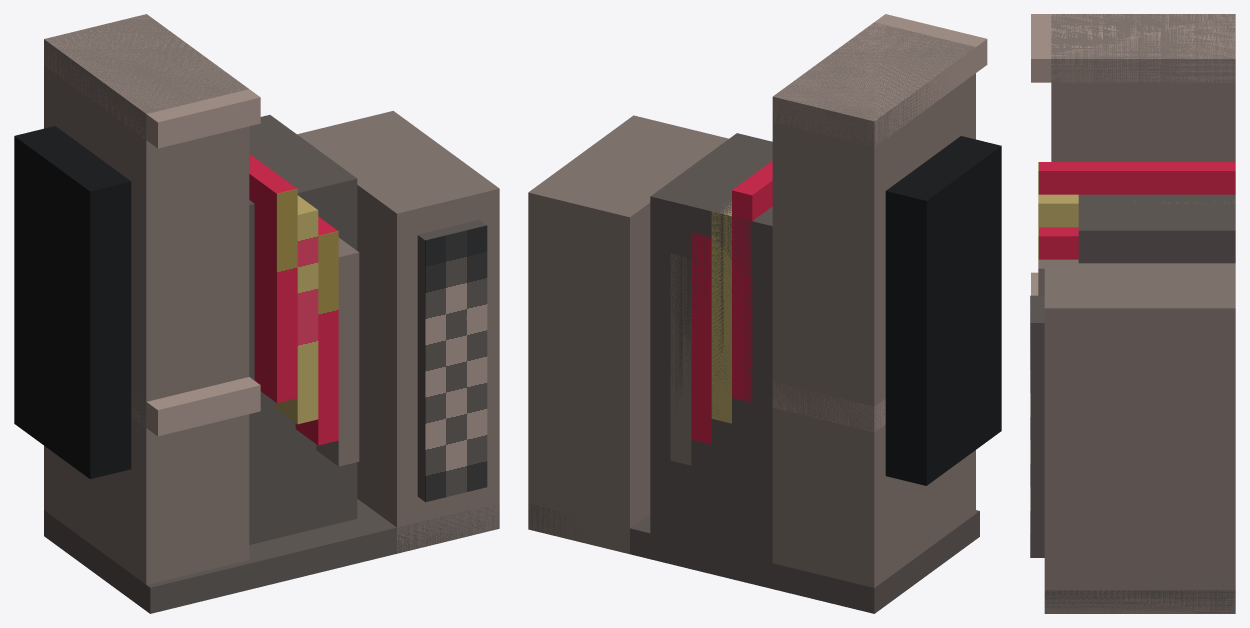
File: CMU3DDropshipNavigationCloudEast.glb
3 renders of one model, left to right at view 1: azimuth 30°, elevation 25°; view 2: azimuth 150°, elevation 25°; view 3: azimuth 270°, elevation 25°, orthographic. The views are drawn at different scales.
Visible parts, largest first — view 1: side stepped rear body, keyboard end body, rear side connector, side main screen backing, side keyboard keys source detail, lower connected console rail, raised side upper rim, narrow visible side display 0 source detail, narrow visible side display 1 source detail, narrow visible side display 3 source detail, sloped screen supporting rib 0, narrow visible side display 2 source detail (+3 smaller); view 2: side stepped rear body, keyboard end body, rear side connector, side main screen backing, raised side upper rim, lower connected console rail, sloped screen supporting rib 0, sloped screen supporting rib 1, sloped screen supporting rib 2, sloped screen supporting rib 3, raised side lower rim; view 3: keyboard end body, side stepped rear body, side main screen backing, raised side upper rim, sloped screen supporting rib 0, lower connected console rail, side keyboard keys substrate, sloped screen supporting rib 1, sloped screen supporting rib 2, narrow visible side display 1 substrate, narrow visible side display 0 substrate, narrow visible side display 2 substrate.
Part boxes in pixels (box(x1,y1,x2,y2)): side stepped rear body: box(44, 14, 249, 584); keyboard end body: box(297, 111, 499, 553); rear side connector: box(14, 126, 131, 479); side main screen backing: box(249, 115, 357, 544); side keyboard keys source detail: box(425, 225, 487, 502); lower connected console rail: box(44, 499, 499, 613); raised side upper rim: box(44, 14, 260, 148); narrow visible side display 0 source detail: box(276, 189, 297, 402); narrow visible side display 1 source detail: box(297, 210, 318, 424); narrow visible side display 3 source detail: box(338, 252, 359, 466); sloped screen supporting rib 0: box(249, 154, 291, 398); narrow visible side display 2 source detail: box(317, 231, 338, 445); side stepped rear body: box(772, 22, 975, 587); keyboard end body: box(528, 115, 728, 554); rear side connector: box(885, 136, 1001, 485); side main screen backing: box(650, 133, 772, 562); raised side upper rim: box(772, 14, 987, 146); lower connected console rail: box(528, 504, 979, 613); sloped screen supporting rib 0: box(732, 161, 772, 402); sloped screen supporting rib 1: box(711, 202, 731, 423); sloped screen supporting rib 2: box(691, 232, 711, 444); sloped screen supporting rib 3: box(670, 253, 691, 465); raised side lower rim: box(772, 382, 885, 431); keyboard end body: box(1044, 263, 1235, 613); side stepped rear body: box(1051, 14, 1235, 161); side main screen backing: box(1078, 194, 1235, 263); raised side upper rim: box(1031, 14, 1235, 82); sloped screen supporting rib 0: box(1048, 162, 1235, 194); lower connected console rail: box(1044, 590, 1235, 613); side keyboard keys substrate: box(1031, 295, 1044, 557); sloped screen supporting rib 1: box(1048, 194, 1206, 227); sloped screen supporting rib 2: box(1048, 227, 1078, 259); narrow visible side display 1 substrate: box(1039, 194, 1047, 227); narrow visible side display 0 substrate: box(1039, 162, 1047, 194); narrow visible side display 2 substrate: box(1039, 227, 1047, 259).
Size of the model in its own units: 0.5938 by 0.722 by 0.301.
Materials: 10 (4 with a texture image).
